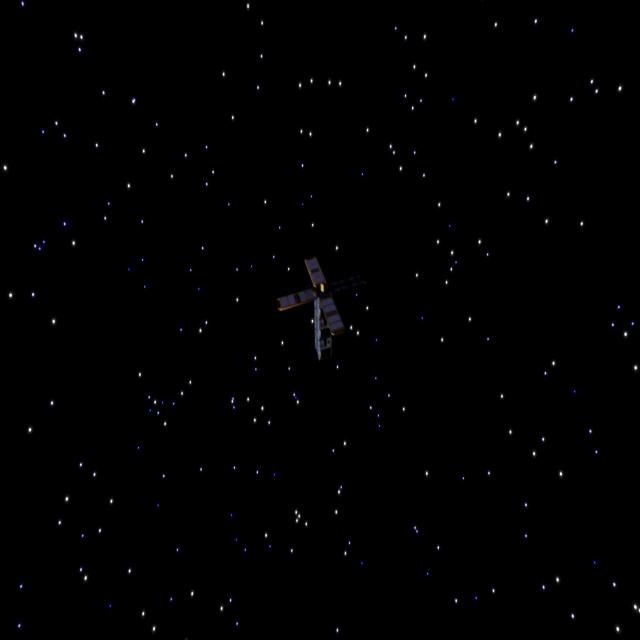medium_debris: (273, 251, 358, 365)
